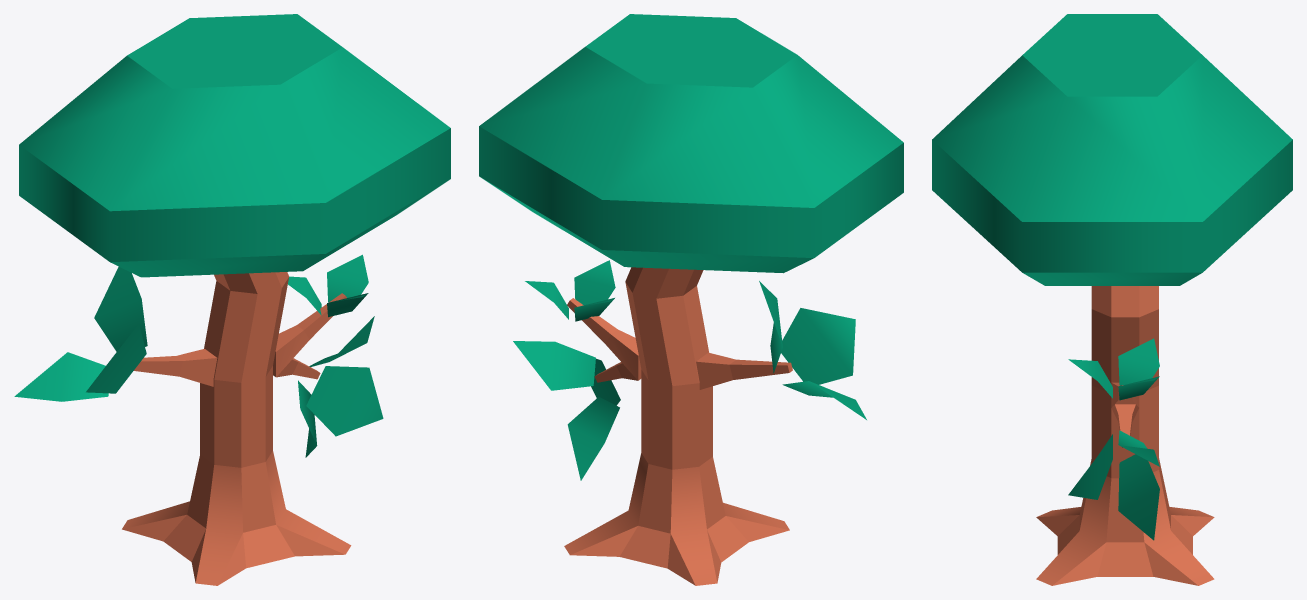
Rendered from Tree_1.glb.
3 views of the same model, side by side, from view 1: azimuth 30°, elevation 25°; view 2: azimuth 150°, elevation 25°; view 3: azimuth 270°, elevation 25° (orthographic).
Visible parts, largest first — view 1: leafs_cone, plant_small (×3), trunk_baseDetailed, trunk_skew, trunk, tree_branchLongSplit, tree_branchLong, trunk_skewLarge; view 2: leafs_cone, plant_small (×3), trunk_baseDetailed, trunk_skew, trunk, tree_branchLongSplit, tree_branchLong, trunk_skewLarge; view 3: leafs_cone, trunk_baseDetailed, plant_small (×2), trunk, trunk_skew, trunk_skewLarge, tree_branchLongSplit.
Boxes of the visible parts, left/top/right/bottom form: leafs_cone: left=19, top=14, right=450, bottom=277; plant_small (×3): left=14, top=254, right=383, bottom=457; trunk_baseDetailed: left=122, top=451, right=351, bottom=585; trunk_skew: left=204, top=277, right=288, bottom=382; trunk: left=200, top=366, right=272, bottom=467; tree_branchLongSplit: left=273, top=293, right=346, bottom=379; tree_branchLong: left=134, top=348, right=217, bottom=386; trunk_skewLarge: left=214, top=272, right=288, bottom=293; leafs_cone: left=479, top=14, right=903, bottom=273; plant_small (×3): left=513, top=260, right=866, bottom=480; trunk_baseDetailed: left=564, top=453, right=789, bottom=585; trunk_skew: left=625, top=282, right=708, bottom=386; trunk: left=641, top=369, right=712, bottom=469; tree_branchLongSplit: left=567, top=298, right=641, bottom=382; tree_branchLong: left=696, top=352, right=792, bottom=389; trunk_skewLarge: left=625, top=267, right=703, bottom=298; leafs_cone: left=932, top=14, right=1292, bottom=285; trunk_baseDetailed: left=1036, top=458, right=1214, bottom=585; plant_small (×2): left=1068, top=338, right=1159, bottom=540; trunk: left=1091, top=385, right=1158, bottom=478; trunk_skew: left=1091, top=309, right=1158, bottom=391; trunk_skewLarge: left=1091, top=286, right=1158, bottom=317; tree_branchLongSplit: left=1111, top=382, right=1139, bottom=447.
Bounding box in the file's own units: 0.4562 × 0.58 × 0.388.
